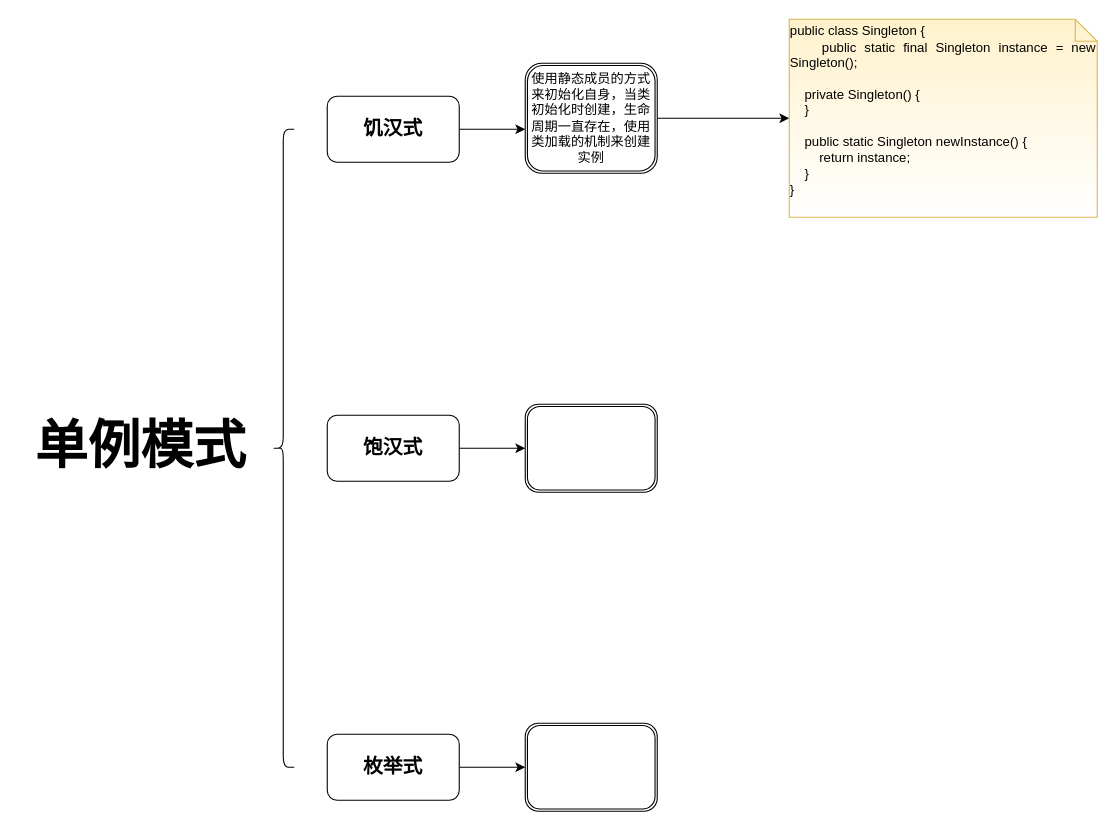
This 1117x831 diagram has some shape labels left out. The shapes that lost their labels are listed below. From the top down, each one's centre as x and y in pixels, then its label:
At (x=590, y=447): "只有调用时才去创建对应的实例".
At (x=590, y=766): "用枚举的方式来创建实例".
